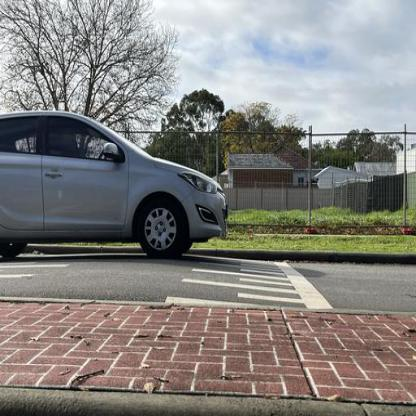Tire: (136, 198, 186, 259)
